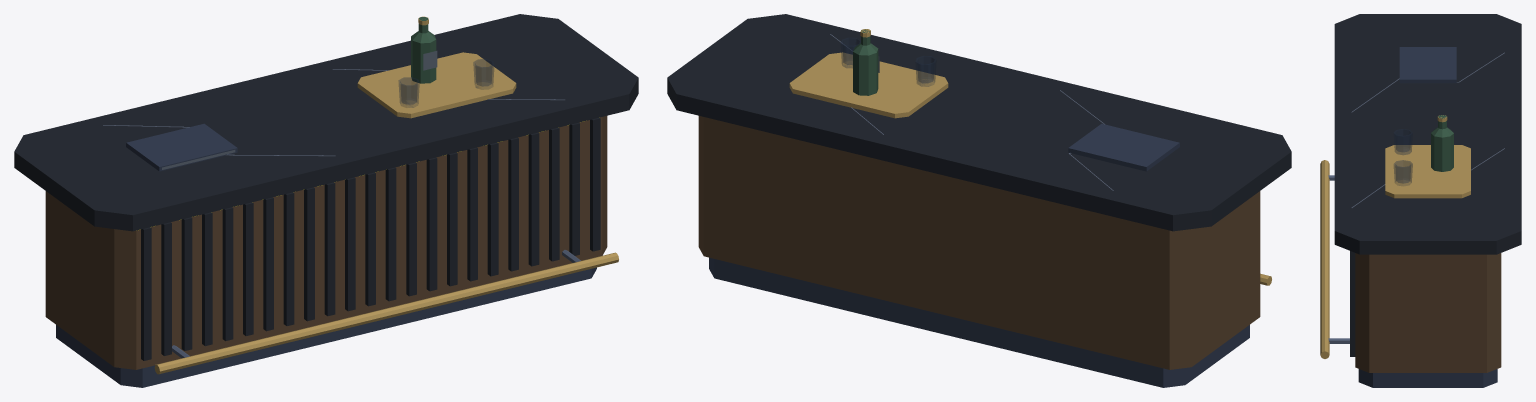
Rendered from res_whisky_bar_counter.glb.
The picture shows the model from 3 angles, left to right: view 1: azimuth 30°, elevation 25°; view 2: azimuth 150°, elevation 25°; view 3: azimuth 270°, elevation 25°; orthographic projection. The views are drawn at different scales.
Parts seen in each view (by area): view 1: fluted_walnut_front, bar_body, bottle_cap, book_binding, bottle, cut_glass_tumbler; view 2: bar_body, fluted_walnut_front, book_binding, bottle_cap, bottle, cut_glass_tumbler; view 3: fluted_walnut_front, bar_body, bottle_cap, book_binding, bottle, cut_glass_tumbler, fine_stone_vein.
Boxes of the visible parts, x1,y1,x2,y2 form: fluted_walnut_front: (14,14,638,360); bar_body: (45,116,607,369); bottle_cap: (154,16,618,374); book_binding: (56,123,596,387); bottle: (411,17,436,83); cut_glass_tumbler: (398,59,494,107); bar_body: (698,116,1260,369); fluted_walnut_front: (667,14,1291,231); book_binding: (709,123,1249,387); bottle_cap: (789,29,1271,285); bottle: (853,29,878,95); cut_glass_tumbler: (841,38,936,86); fluted_walnut_front: (1334,14,1521,356); bar_body: (1355,253,1501,372); bottle_cap: (1320,115,1470,358); book_binding: (1358,47,1497,387); bottle: (1431,115,1453,171); cut_glass_tumbler: (1394,129,1412,185); fine_stone_vein: (1351,52,1504,208).
Bounding box in the file's own units: 3.2 × 1.42 × 1.2.
